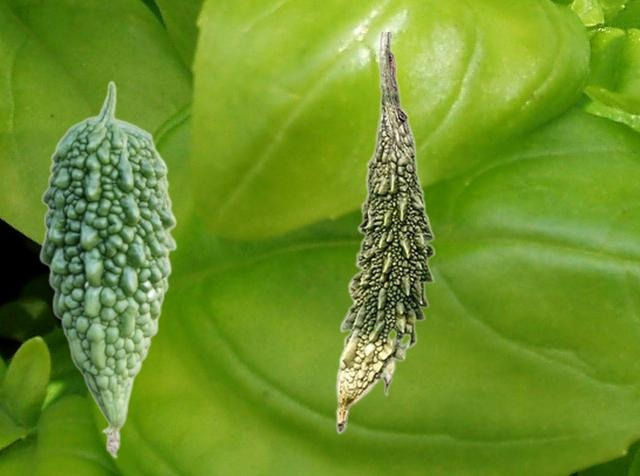ampalaya: (38, 80, 176, 458), (335, 32, 435, 434)
